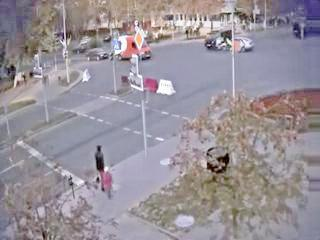Car: (113, 35, 150, 58), (205, 28, 234, 49), (224, 36, 251, 50), (85, 48, 110, 61), (72, 38, 92, 54)
Minor Accident: (203, 29, 253, 52)
